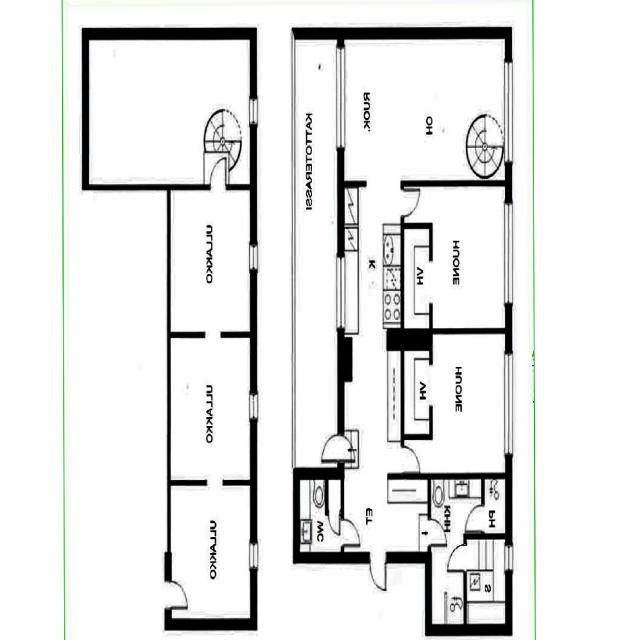door: (165, 580, 188, 608), (370, 551, 386, 588), (322, 434, 344, 460), (337, 434, 359, 460), (210, 156, 226, 190), (429, 189, 448, 216), (428, 518, 446, 545), (448, 544, 466, 570), (401, 446, 419, 472), (341, 519, 359, 544), (466, 505, 484, 530), (328, 510, 339, 532)
